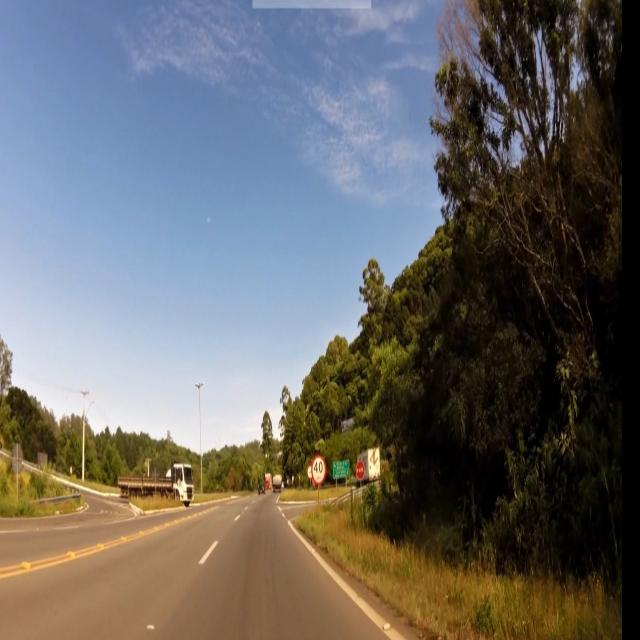R-1: (356, 461, 366, 480)
R-19: (311, 456, 326, 488)
